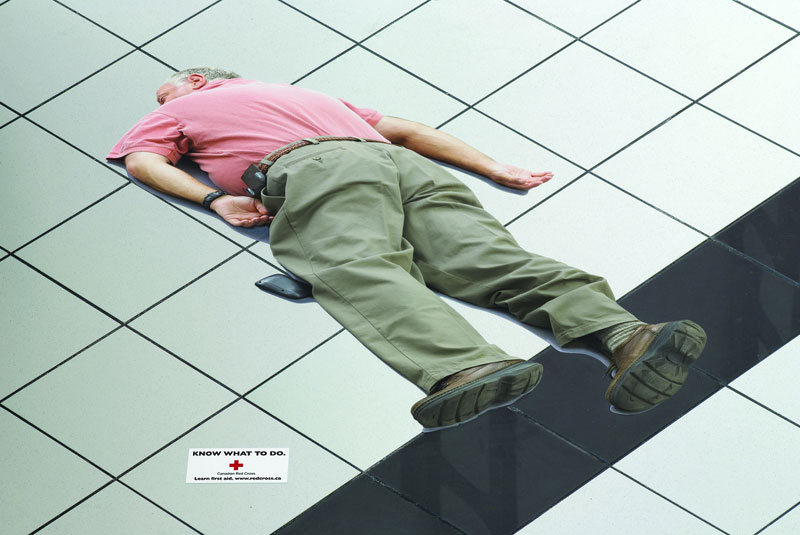collapsed: (108, 52, 713, 431)
